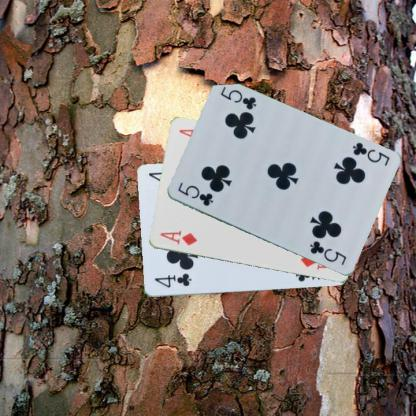4c: (152, 271, 192, 289)
5c: (350, 140, 390, 167), (175, 180, 214, 207)
Ad: (157, 228, 198, 247)
